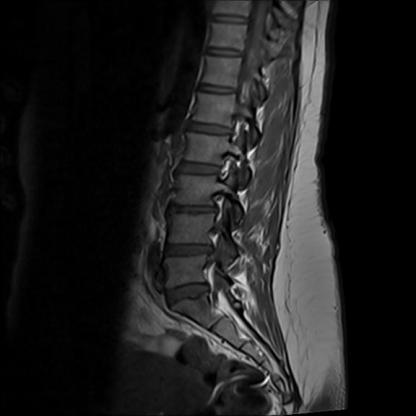Disc Bulgerotation: (160, 238, 223, 265), (163, 281, 218, 309), (162, 200, 224, 221)
